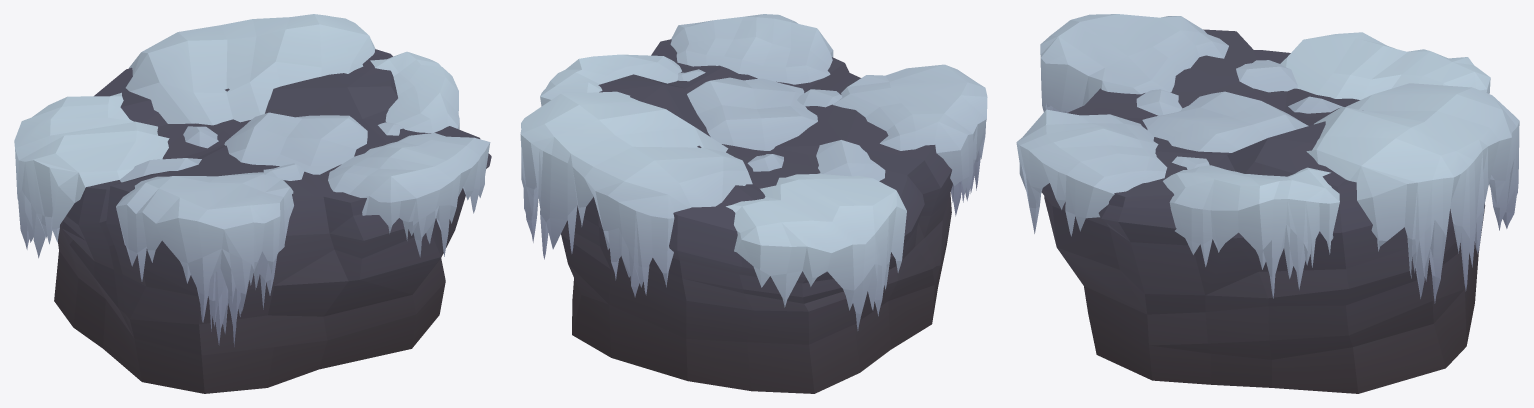
The model's file is cliffmesh01.glb.
3 renders of one model, left to right at view 1: azimuth 30°, elevation 25°; view 2: azimuth 150°, elevation 25°; view 3: azimuth 270°, elevation 25°, orthographic. The views are drawn at different scales.
Parts seen in each view (by area): view 1: Cube; view 2: Cube; view 3: Cube.
Boxes of the visible parts, x1,y1,x2,y2 form: Cube: [14, 14, 491, 393]; Cube: [520, 14, 987, 393]; Cube: [1016, 14, 1519, 393].
Bounding box in the file's own units: 10.21 × 5.91 × 10.76.
Materials: 1 (1 with a texture image).
